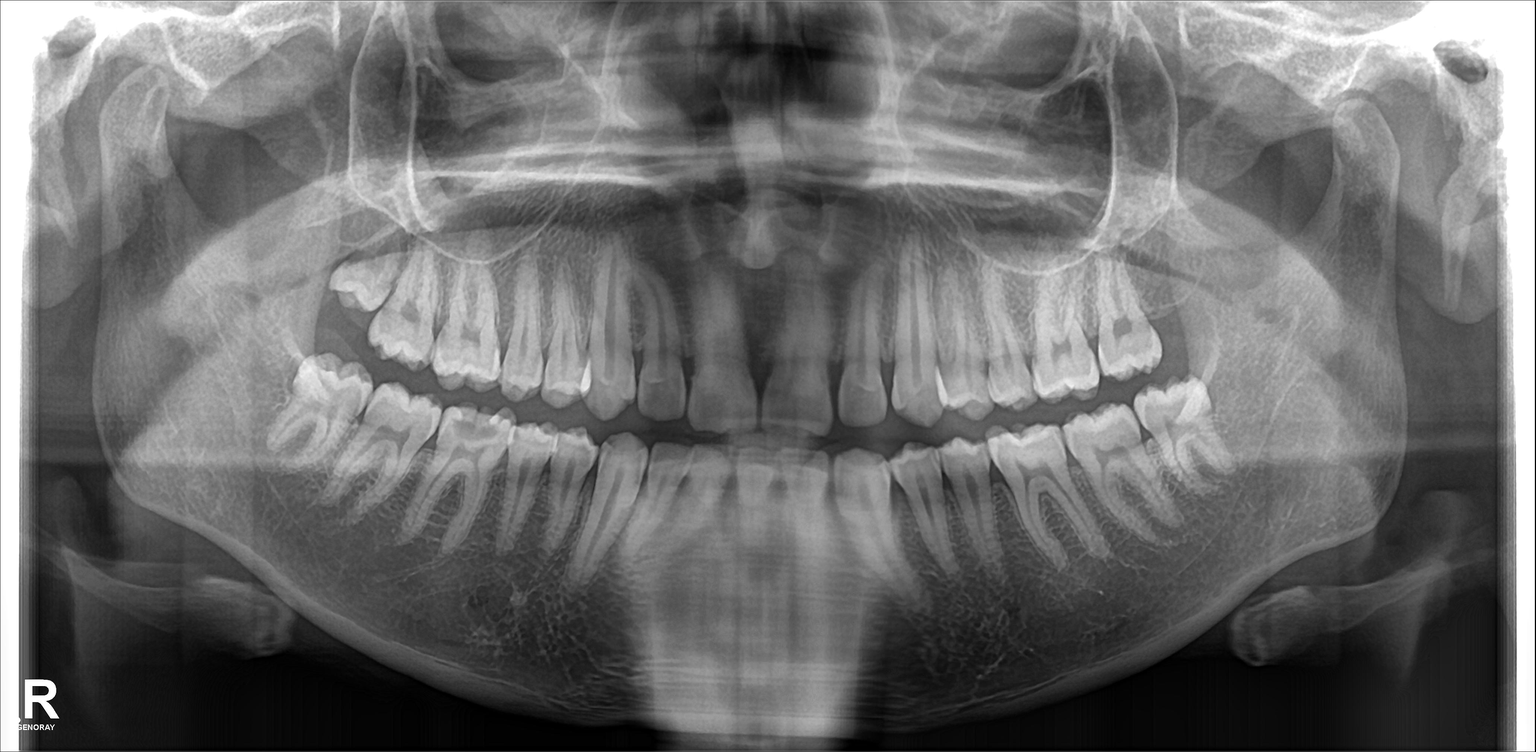Dental Caries: (453, 421, 501, 450)
Impacted Third Molar: (270, 358, 371, 445), (328, 246, 401, 316)
Missing Tooth: (1145, 249, 1195, 369)
